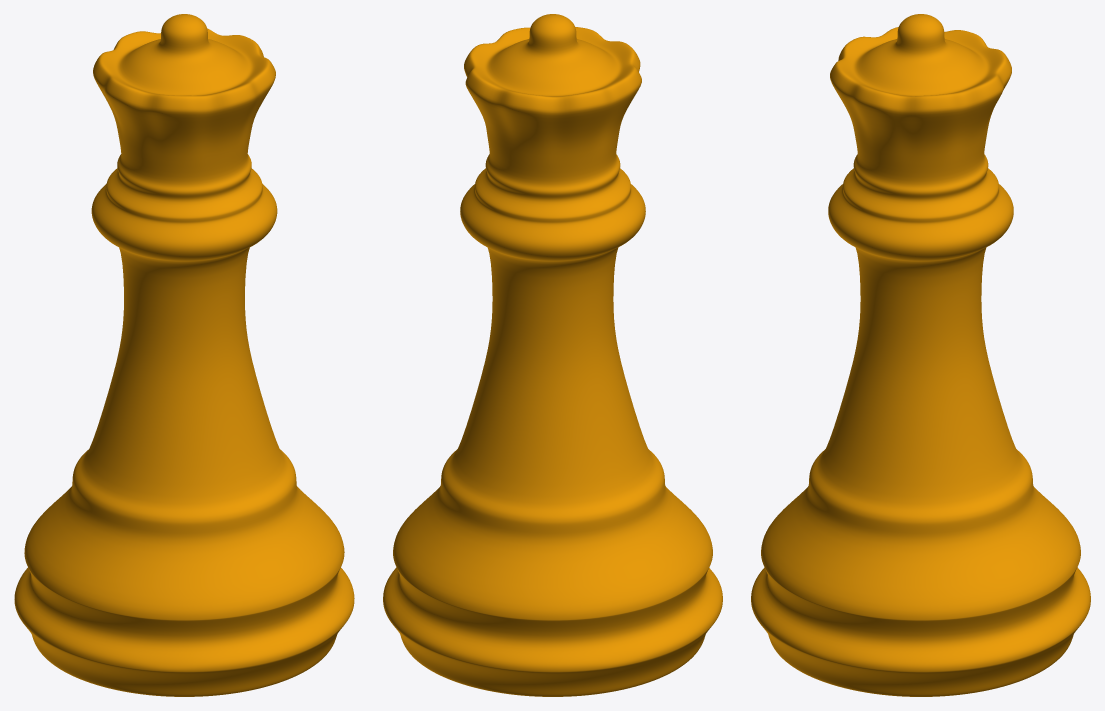
Rendered from queen1.glb.
The picture shows the model from 3 angles, left to right: view 1: azimuth 30°, elevation 25°; view 2: azimuth 150°, elevation 25°; view 3: azimuth 270°, elevation 25°; orthographic projection.
Parts seen in each view (by area): view 1: queen; view 2: queen; view 3: queen.
Part boxes in pixels (x1,y1,x2,y2): queen: [14, 14, 354, 696]; queen: [383, 14, 722, 696]; queen: [751, 14, 1090, 696].
Bounding box in the file's own units: 1.88 × 3.77 × 1.88.
